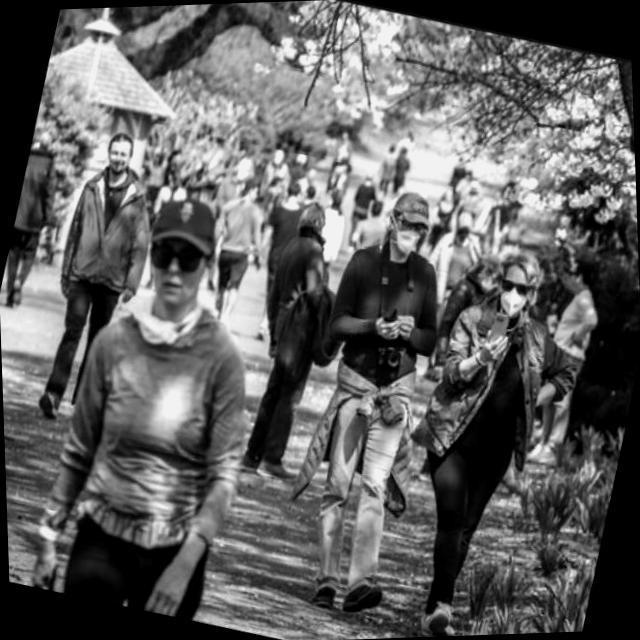no_apron: (144, 534, 206, 630), (20, 516, 64, 594), (363, 303, 419, 351), (456, 326, 502, 379)
no_hairnet: (130, 267, 202, 302), (108, 143, 134, 169)
